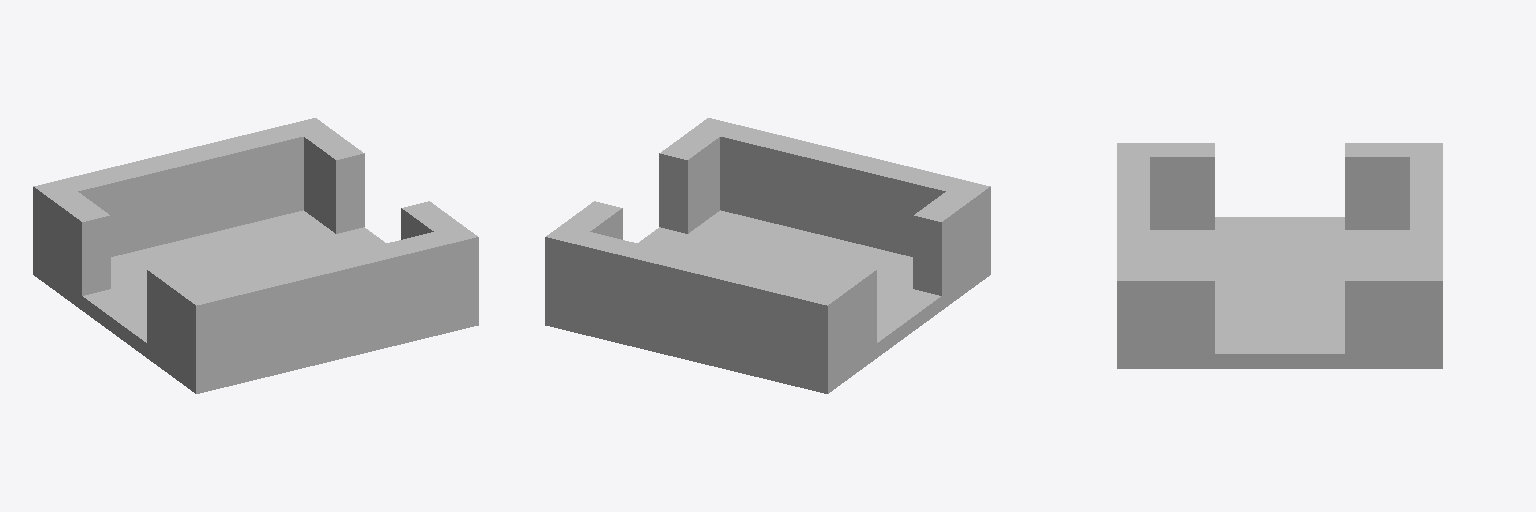
The model's file is PATHTEST.obj.
3 renders of one model, left to right at view 1: azimuth 30°, elevation 25°; view 2: azimuth 150°, elevation 25°; view 3: azimuth 270°, elevation 25°, orthographic.
Visible parts, largest first — view 1: Path; view 2: Path; view 3: Path.
Part boxes in pixels (left/top/right/bottom): Path: left=33, top=118, right=478, bottom=393; Path: left=545, top=118, right=990, bottom=393; Path: left=1117, top=143, right=1442, bottom=368.
Size of the model in its own units: 40 by 12 by 40.